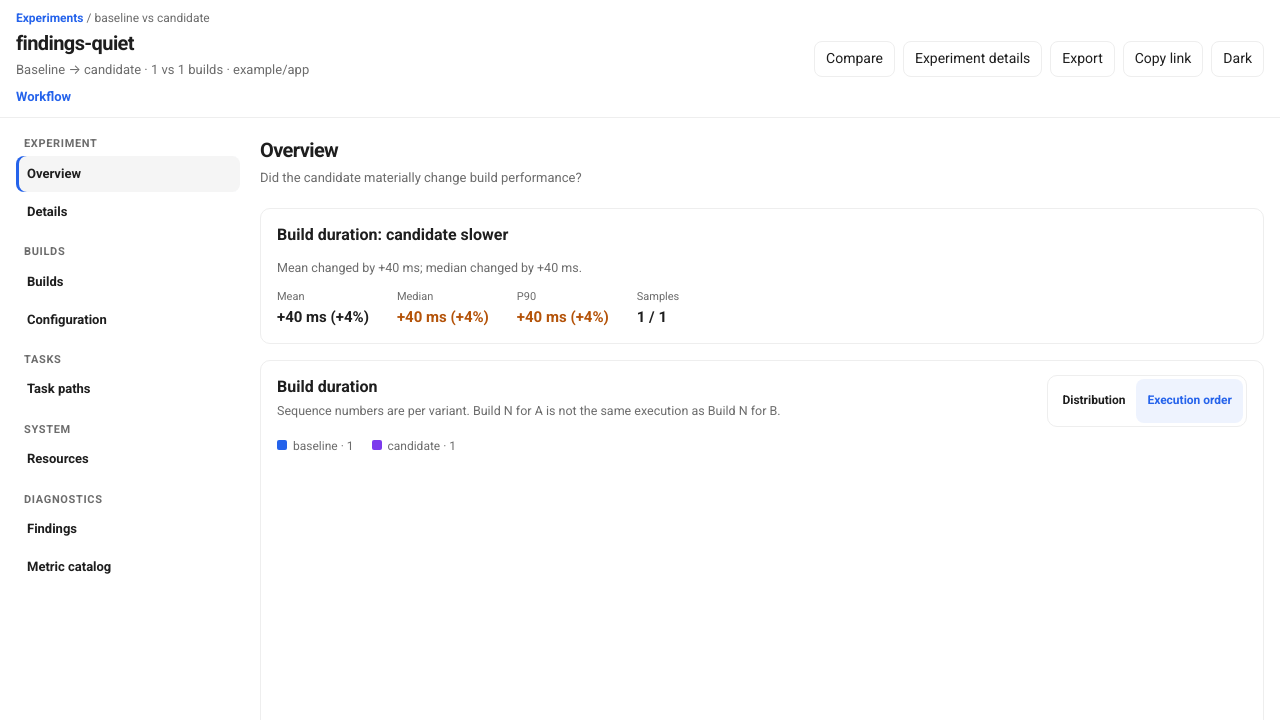
Scenario: ReportApp › shows the empty findings copy when nothing moved by 5%
Expected: the heading "findings-quiet" is shown, [16,31,134,55]
Click the button "Findings": (128, 530) [16,512,240,548]
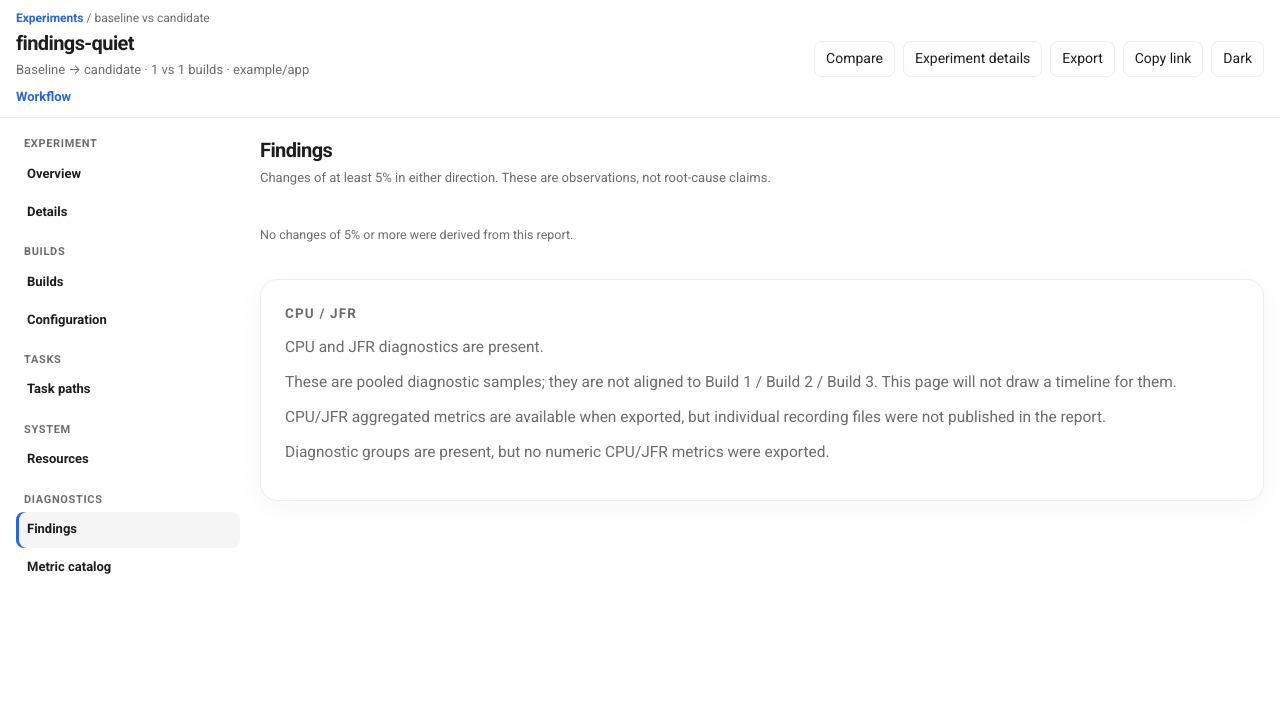
Expected: the heading "Findings" is shown, [260,138,332,162]
Expected: the text "No changes of 5% or more were derived from this report." is shown, [260,227,573,242]
